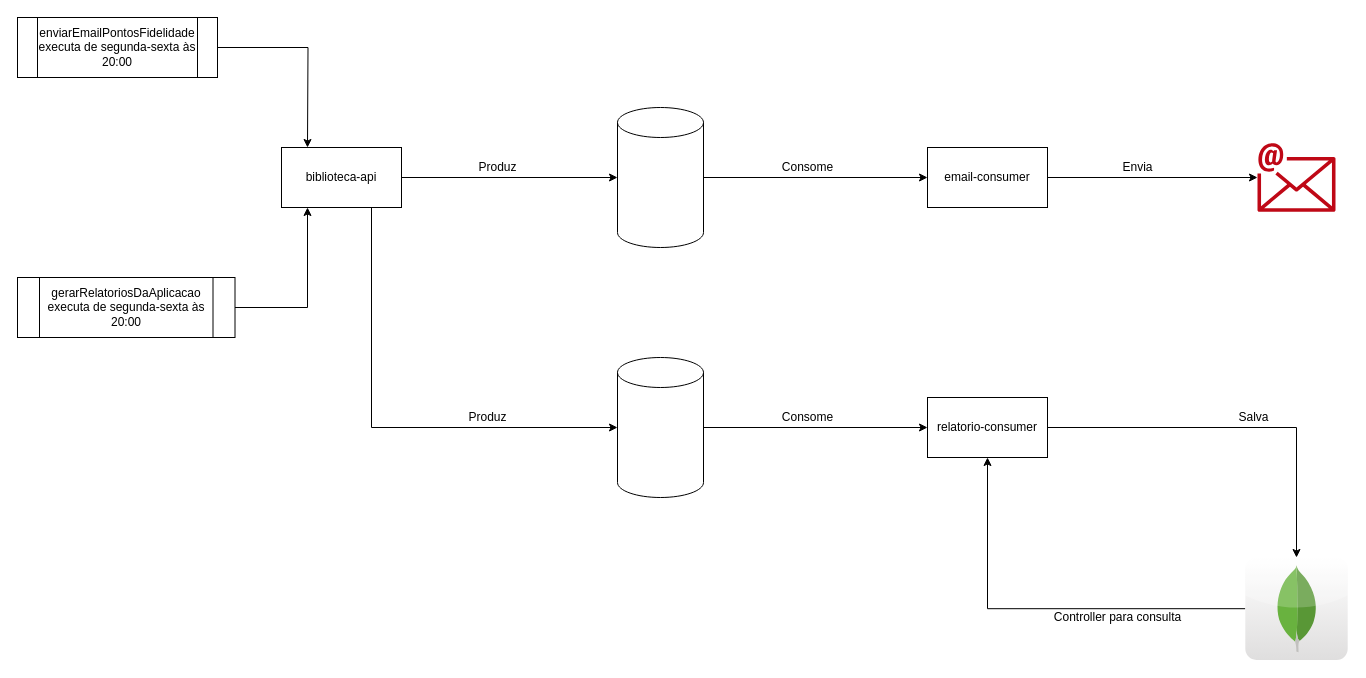
Image size: 1366x678. Some labels were removed from this diagram. The shapes that lost their labels are listed below. From the top down, each one's centre as x and y in pixels, then its label:
At point (660, 177): "TOPICO enviar-email".
At point (660, 427): "TOPICO relatorios".
